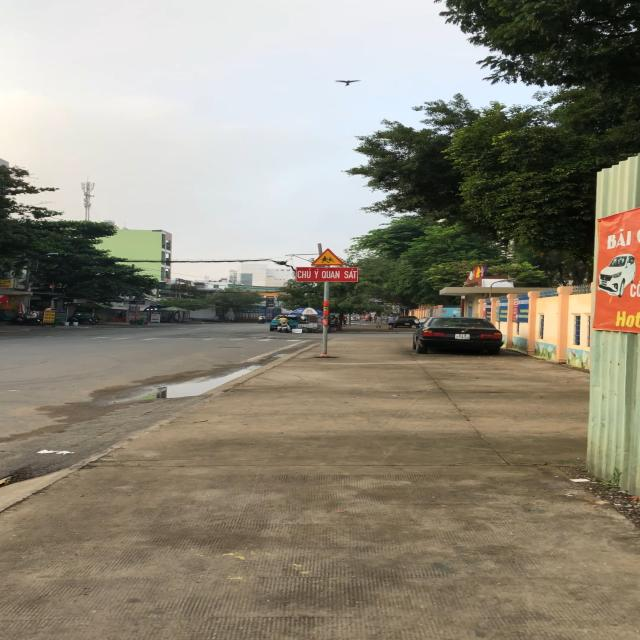Bien bao tre em: (310, 248, 345, 266)
